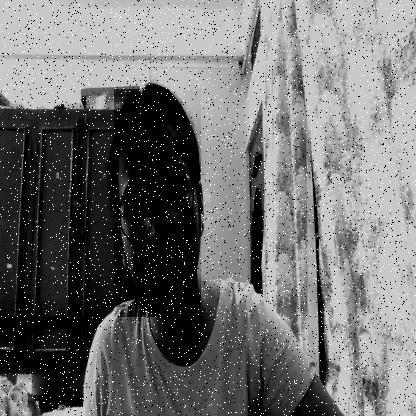Normal: (114, 89, 201, 317)
